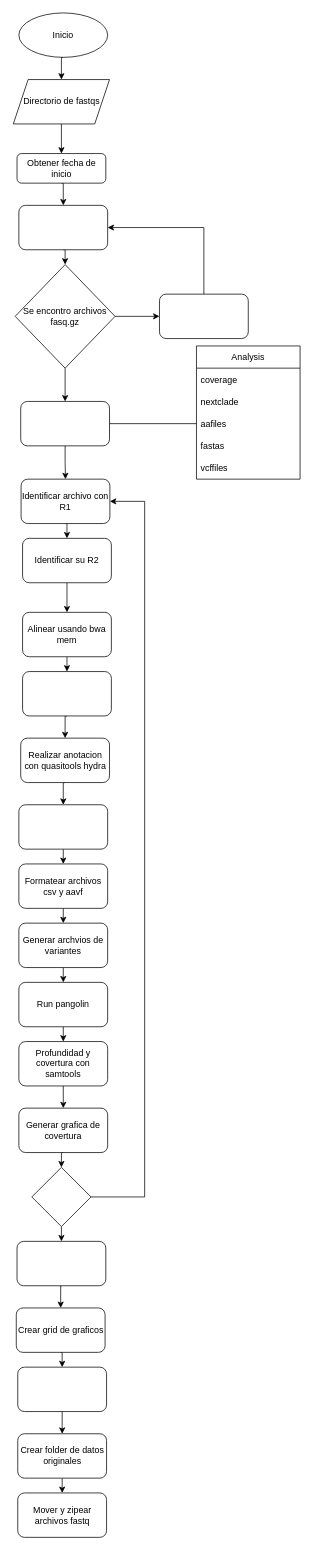
Image size: 313x1550. Some labels were removed from this diagram. Each missing label, with the centre of its shape:
"Buscar un archivo fastq o fasq.gz" goes at (x=63, y=227).
"Crear archivo de covertura global" goes at (x=61, y=1263).
"Crear directorios y volverlos publicos" goes at (x=65, y=423).
"Crear secuencias de consenso" goes at (x=63, y=826).
"Descomprimir" goes at (x=203, y=316).
"Hay mas archivos" goes at (x=61, y=1197).
"Procesar con nextclade" goes at (x=62, y=1389).
"Trimear primers de las lecturas" goes at (x=66, y=693).
